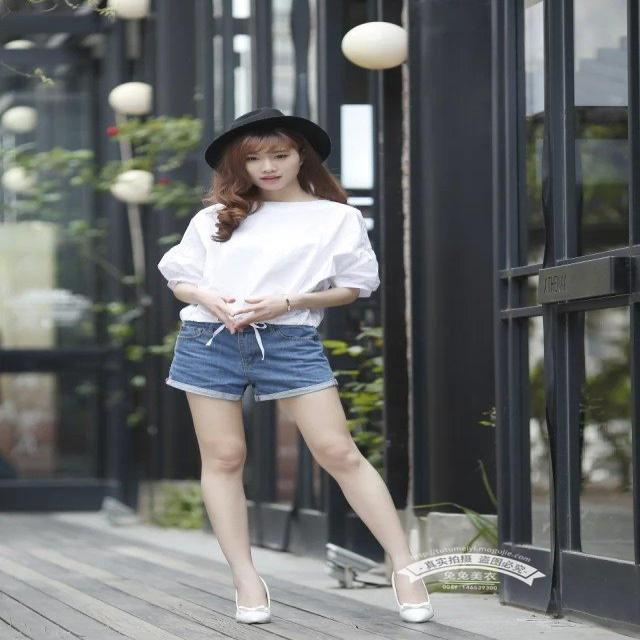short-sleeve-top: (158, 191, 404, 322)
shorts: (174, 335, 388, 410)
